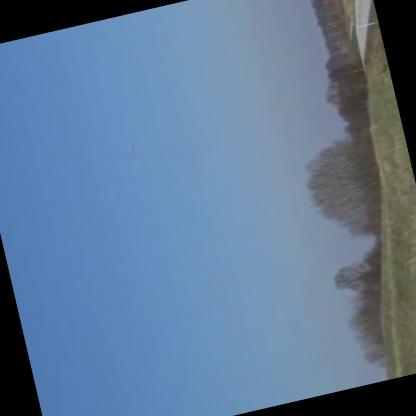plane: (126, 146, 134, 153)
